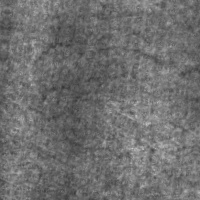crazing: (34, 20, 200, 79), (23, 70, 131, 159)
